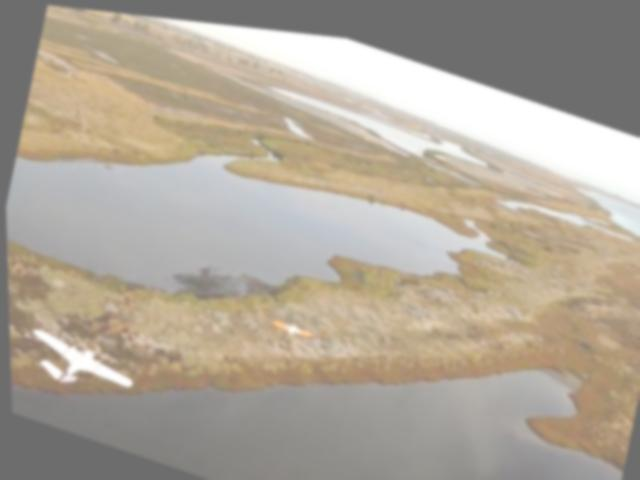uav: (19, 325, 138, 405), (263, 307, 313, 339)
